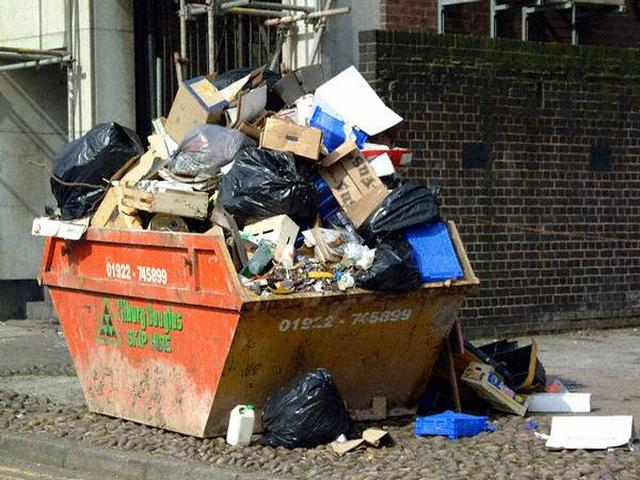garbage: (171, 87, 408, 236)
